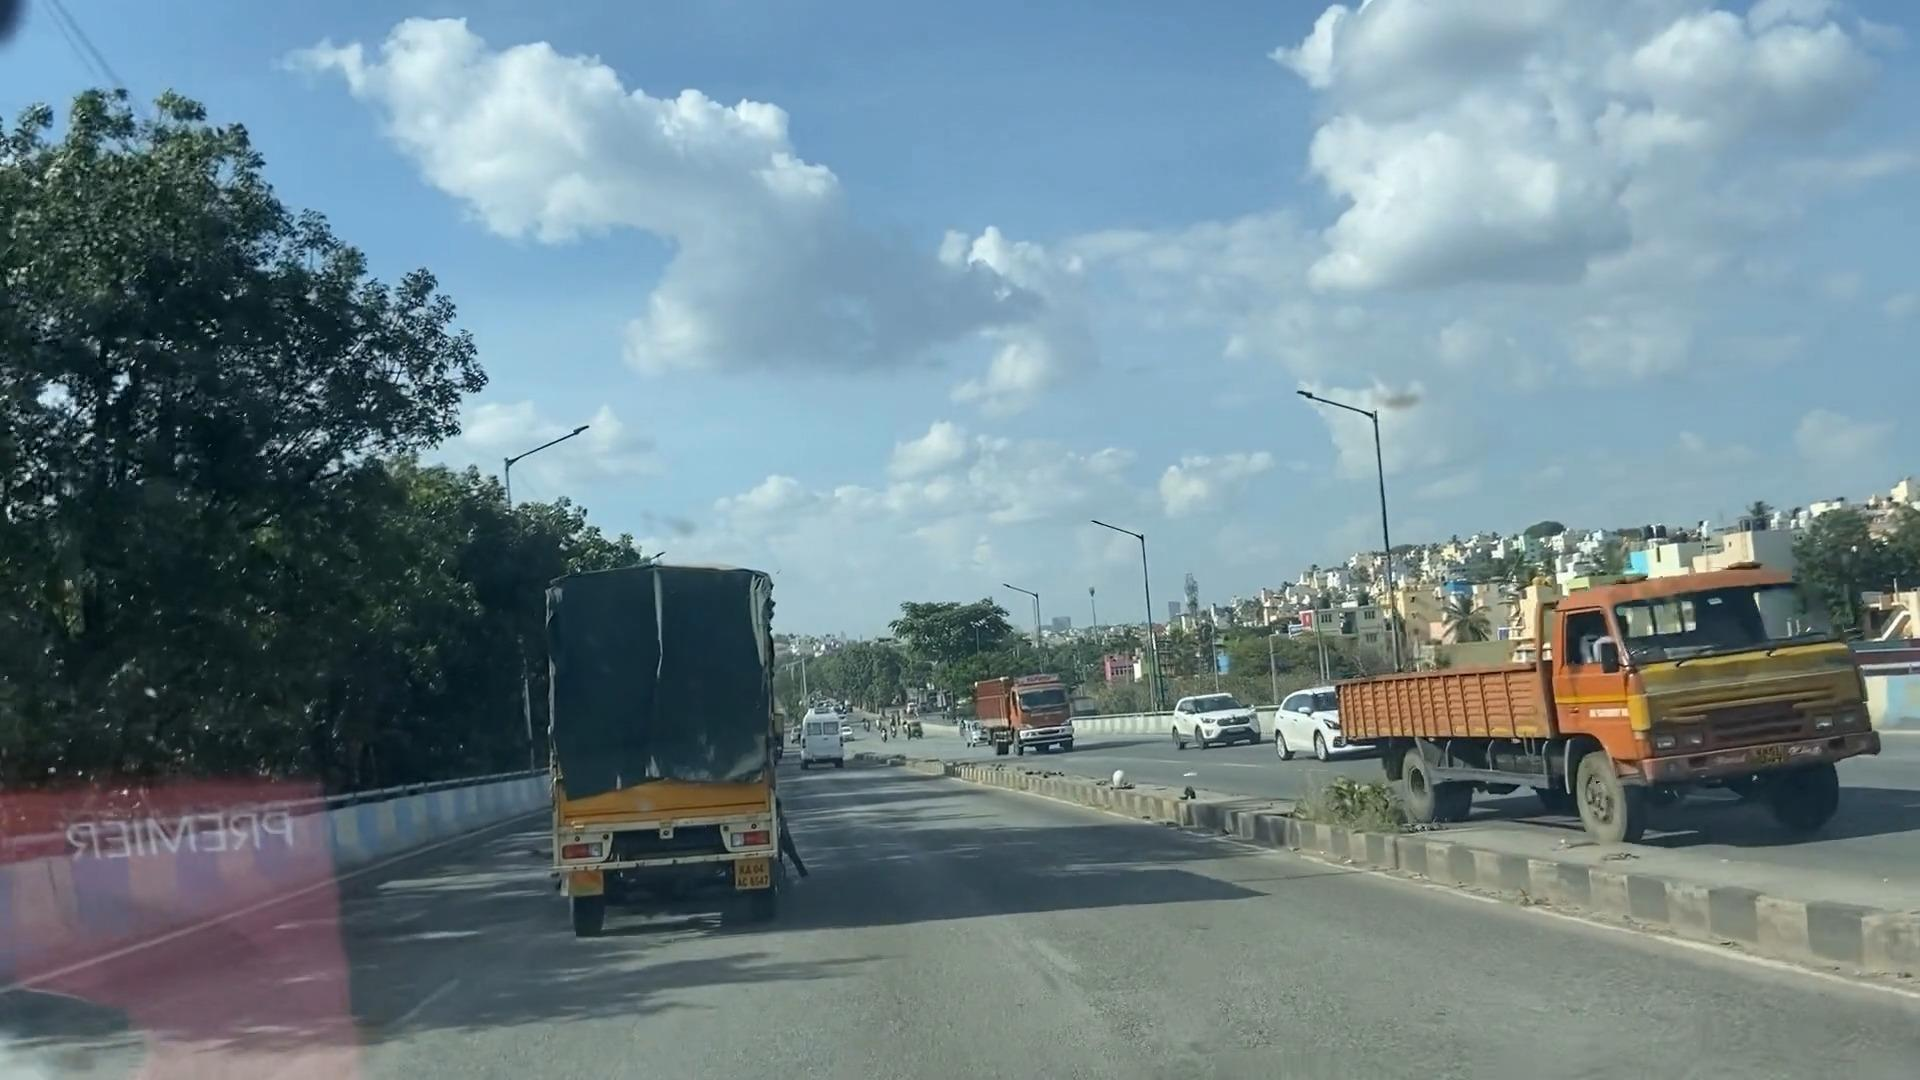HMV: (525, 575, 810, 967)
